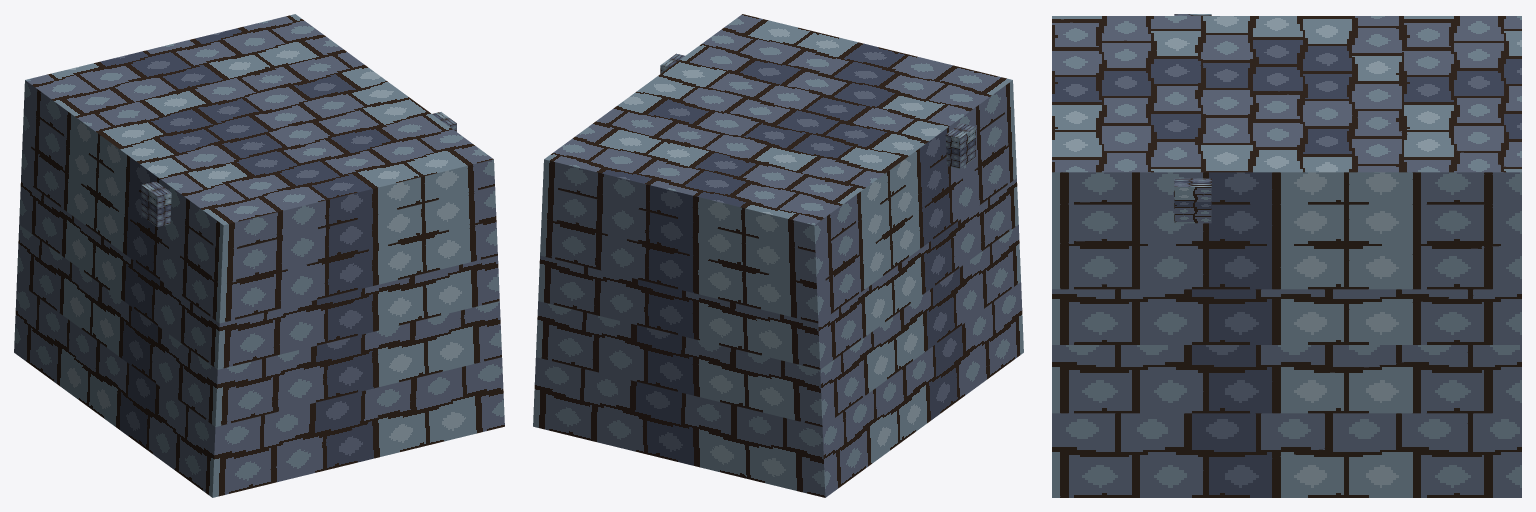
The model's file is RUI-02_Muelle_de_sillar_tramo.gltf.
3 views of the same model, side by side, from view 1: azimuth 30°, elevation 25°; view 2: azimuth 150°, elevation 25°; view 3: azimuth 270°, elevation 25° (orthographic). The views are drawn at different scales.
Visible parts, largest first — view 1: RUI-02_Muelle_de_sillar_tramo-col; view 2: RUI-02_Muelle_de_sillar_tramo-col; view 3: RUI-02_Muelle_de_sillar_tramo-col.
Part boxes in pixels (x1,y1,x2,y2): RUI-02_Muelle_de_sillar_tramo-col: (14,14,504,497); RUI-02_Muelle_de_sillar_tramo-col: (533,14,1023,497); RUI-02_Muelle_de_sillar_tramo-col: (1052,14,1521,497).
Size of the model in its own units: 3.48 by 3 by 4.
1 material, 1 textured.
